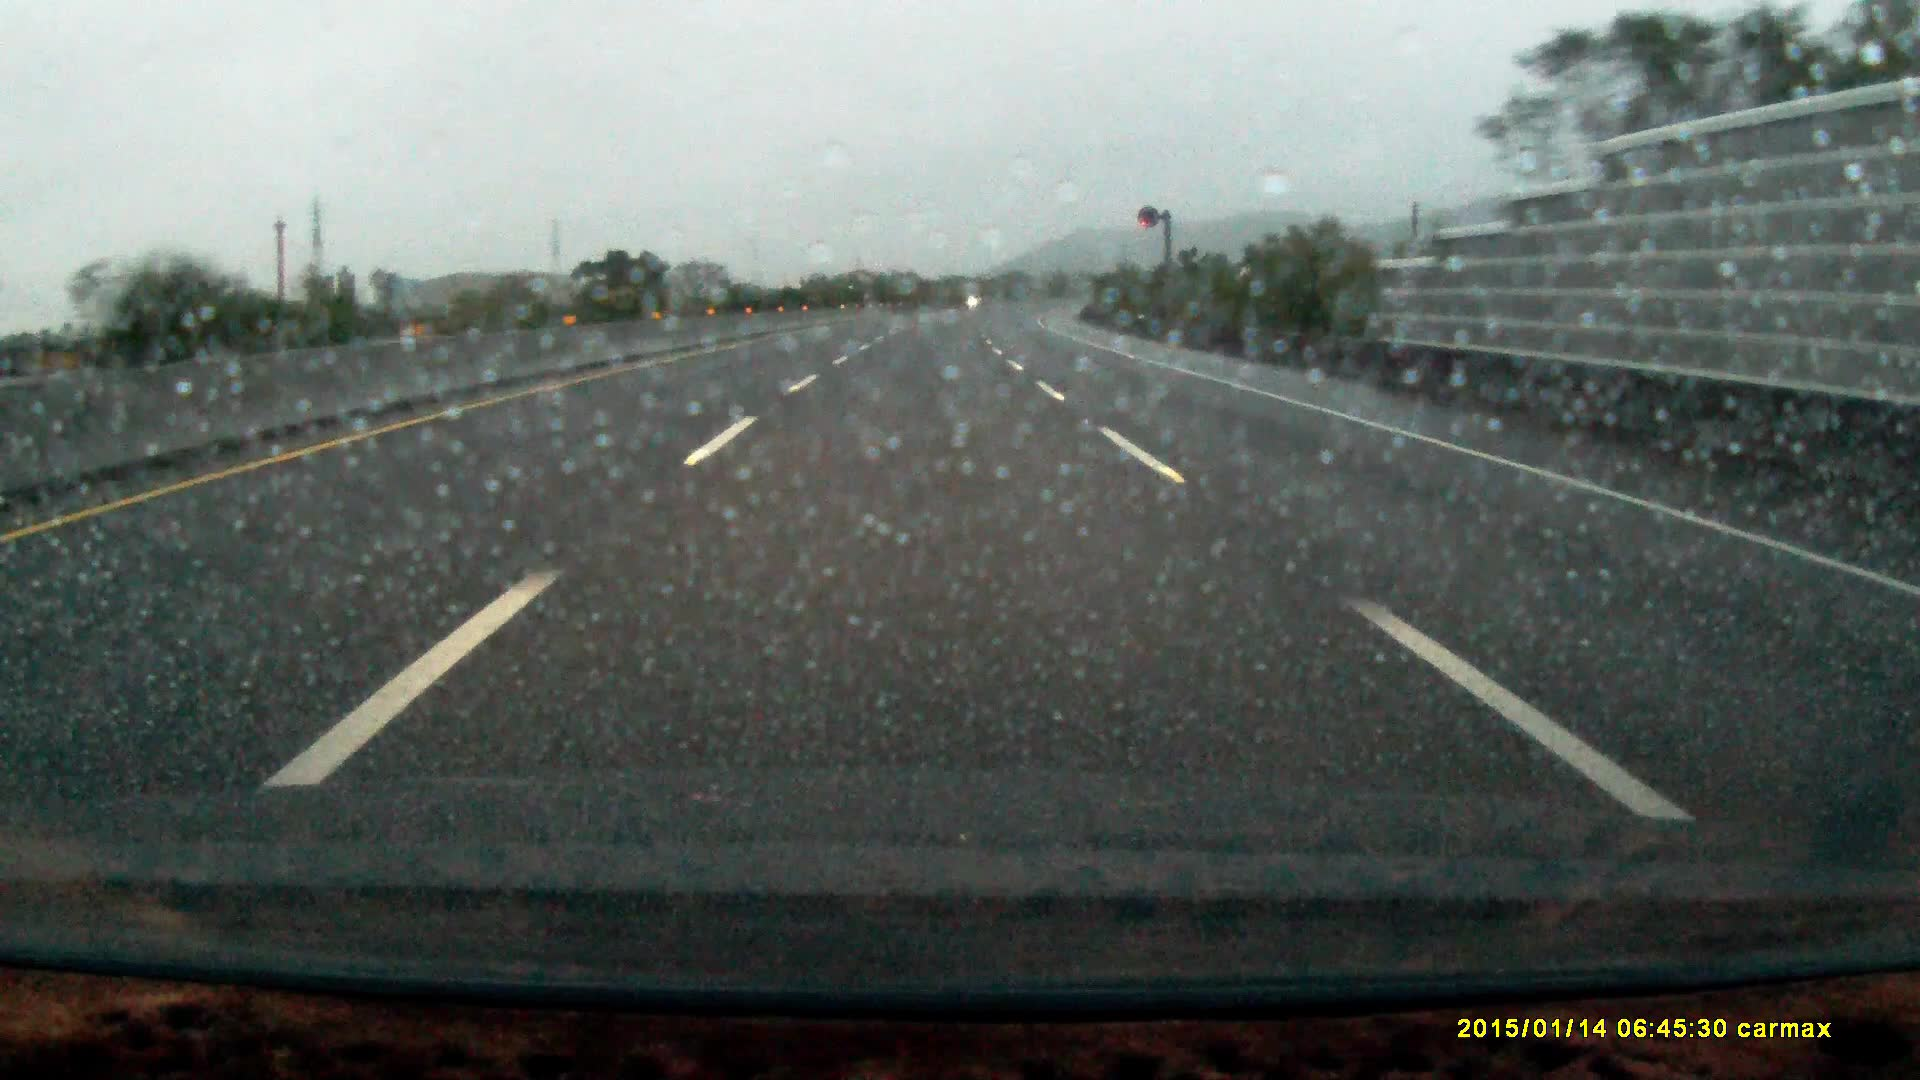vehicle: (837, 269, 882, 309)
